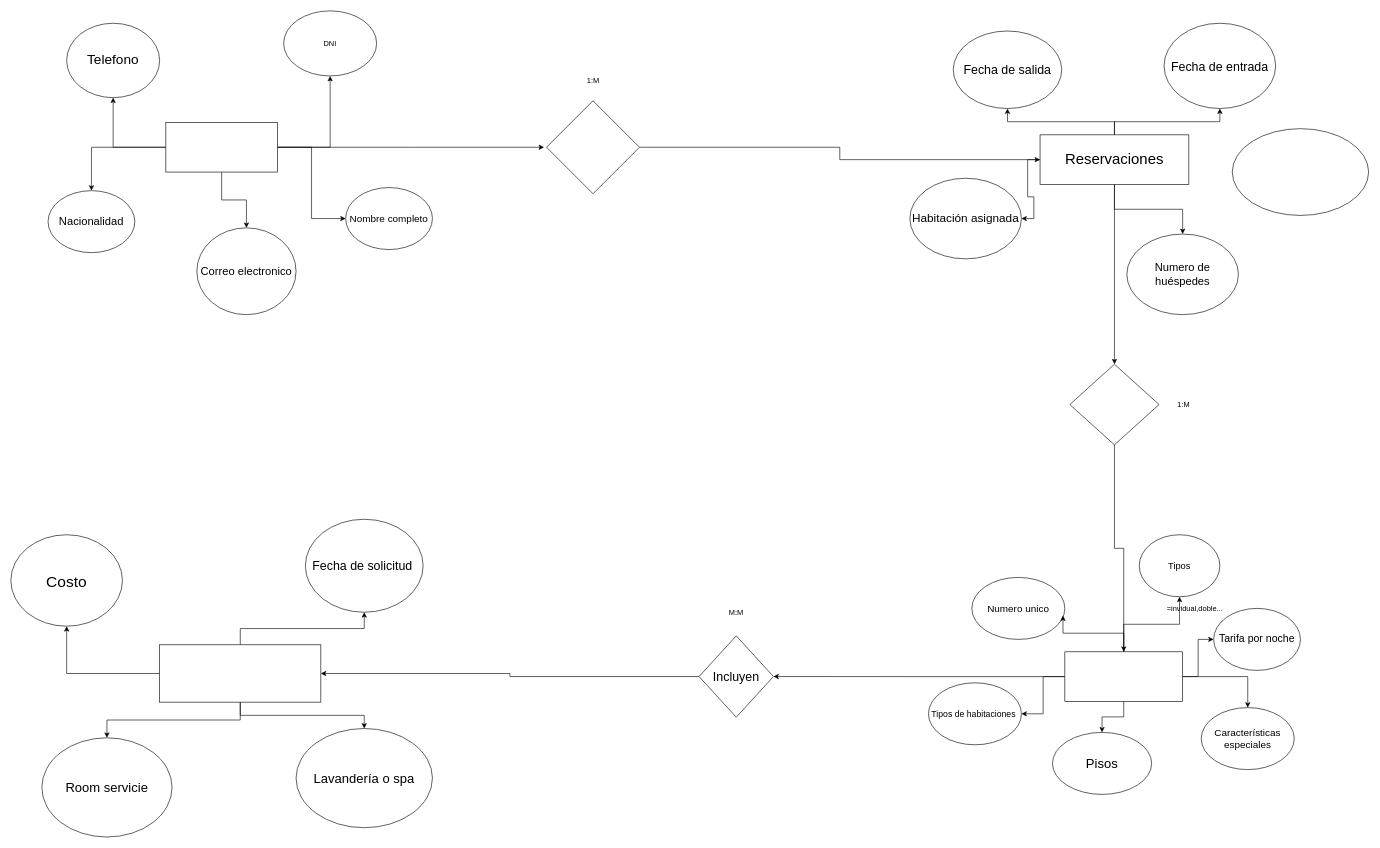
The diagram is 1380 pixels wide and 848 high, and some of its shapes have lost their labels. Each missing label, with the centre of its shape:
"Estado de pago" goes at point (1300, 171).
"Huéspedes" goes at point (221, 147).
"Requiere" goes at point (1114, 404).
"Servicios" goes at point (1123, 676).
"Servicios extras" goes at point (240, 673).
"Solicitan" goes at point (593, 147).
